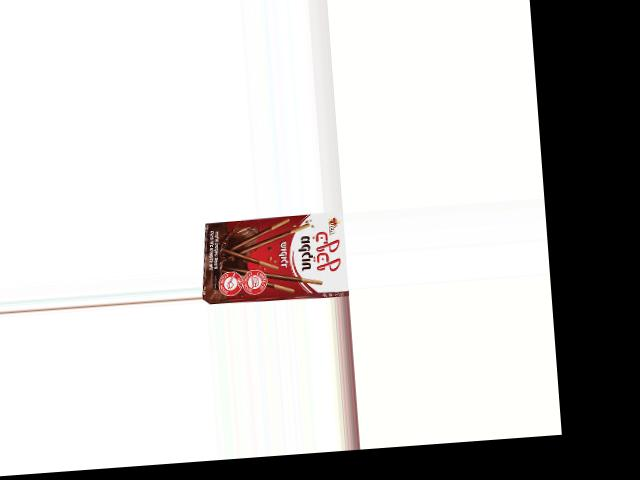chocolate: (206, 210, 348, 304)
